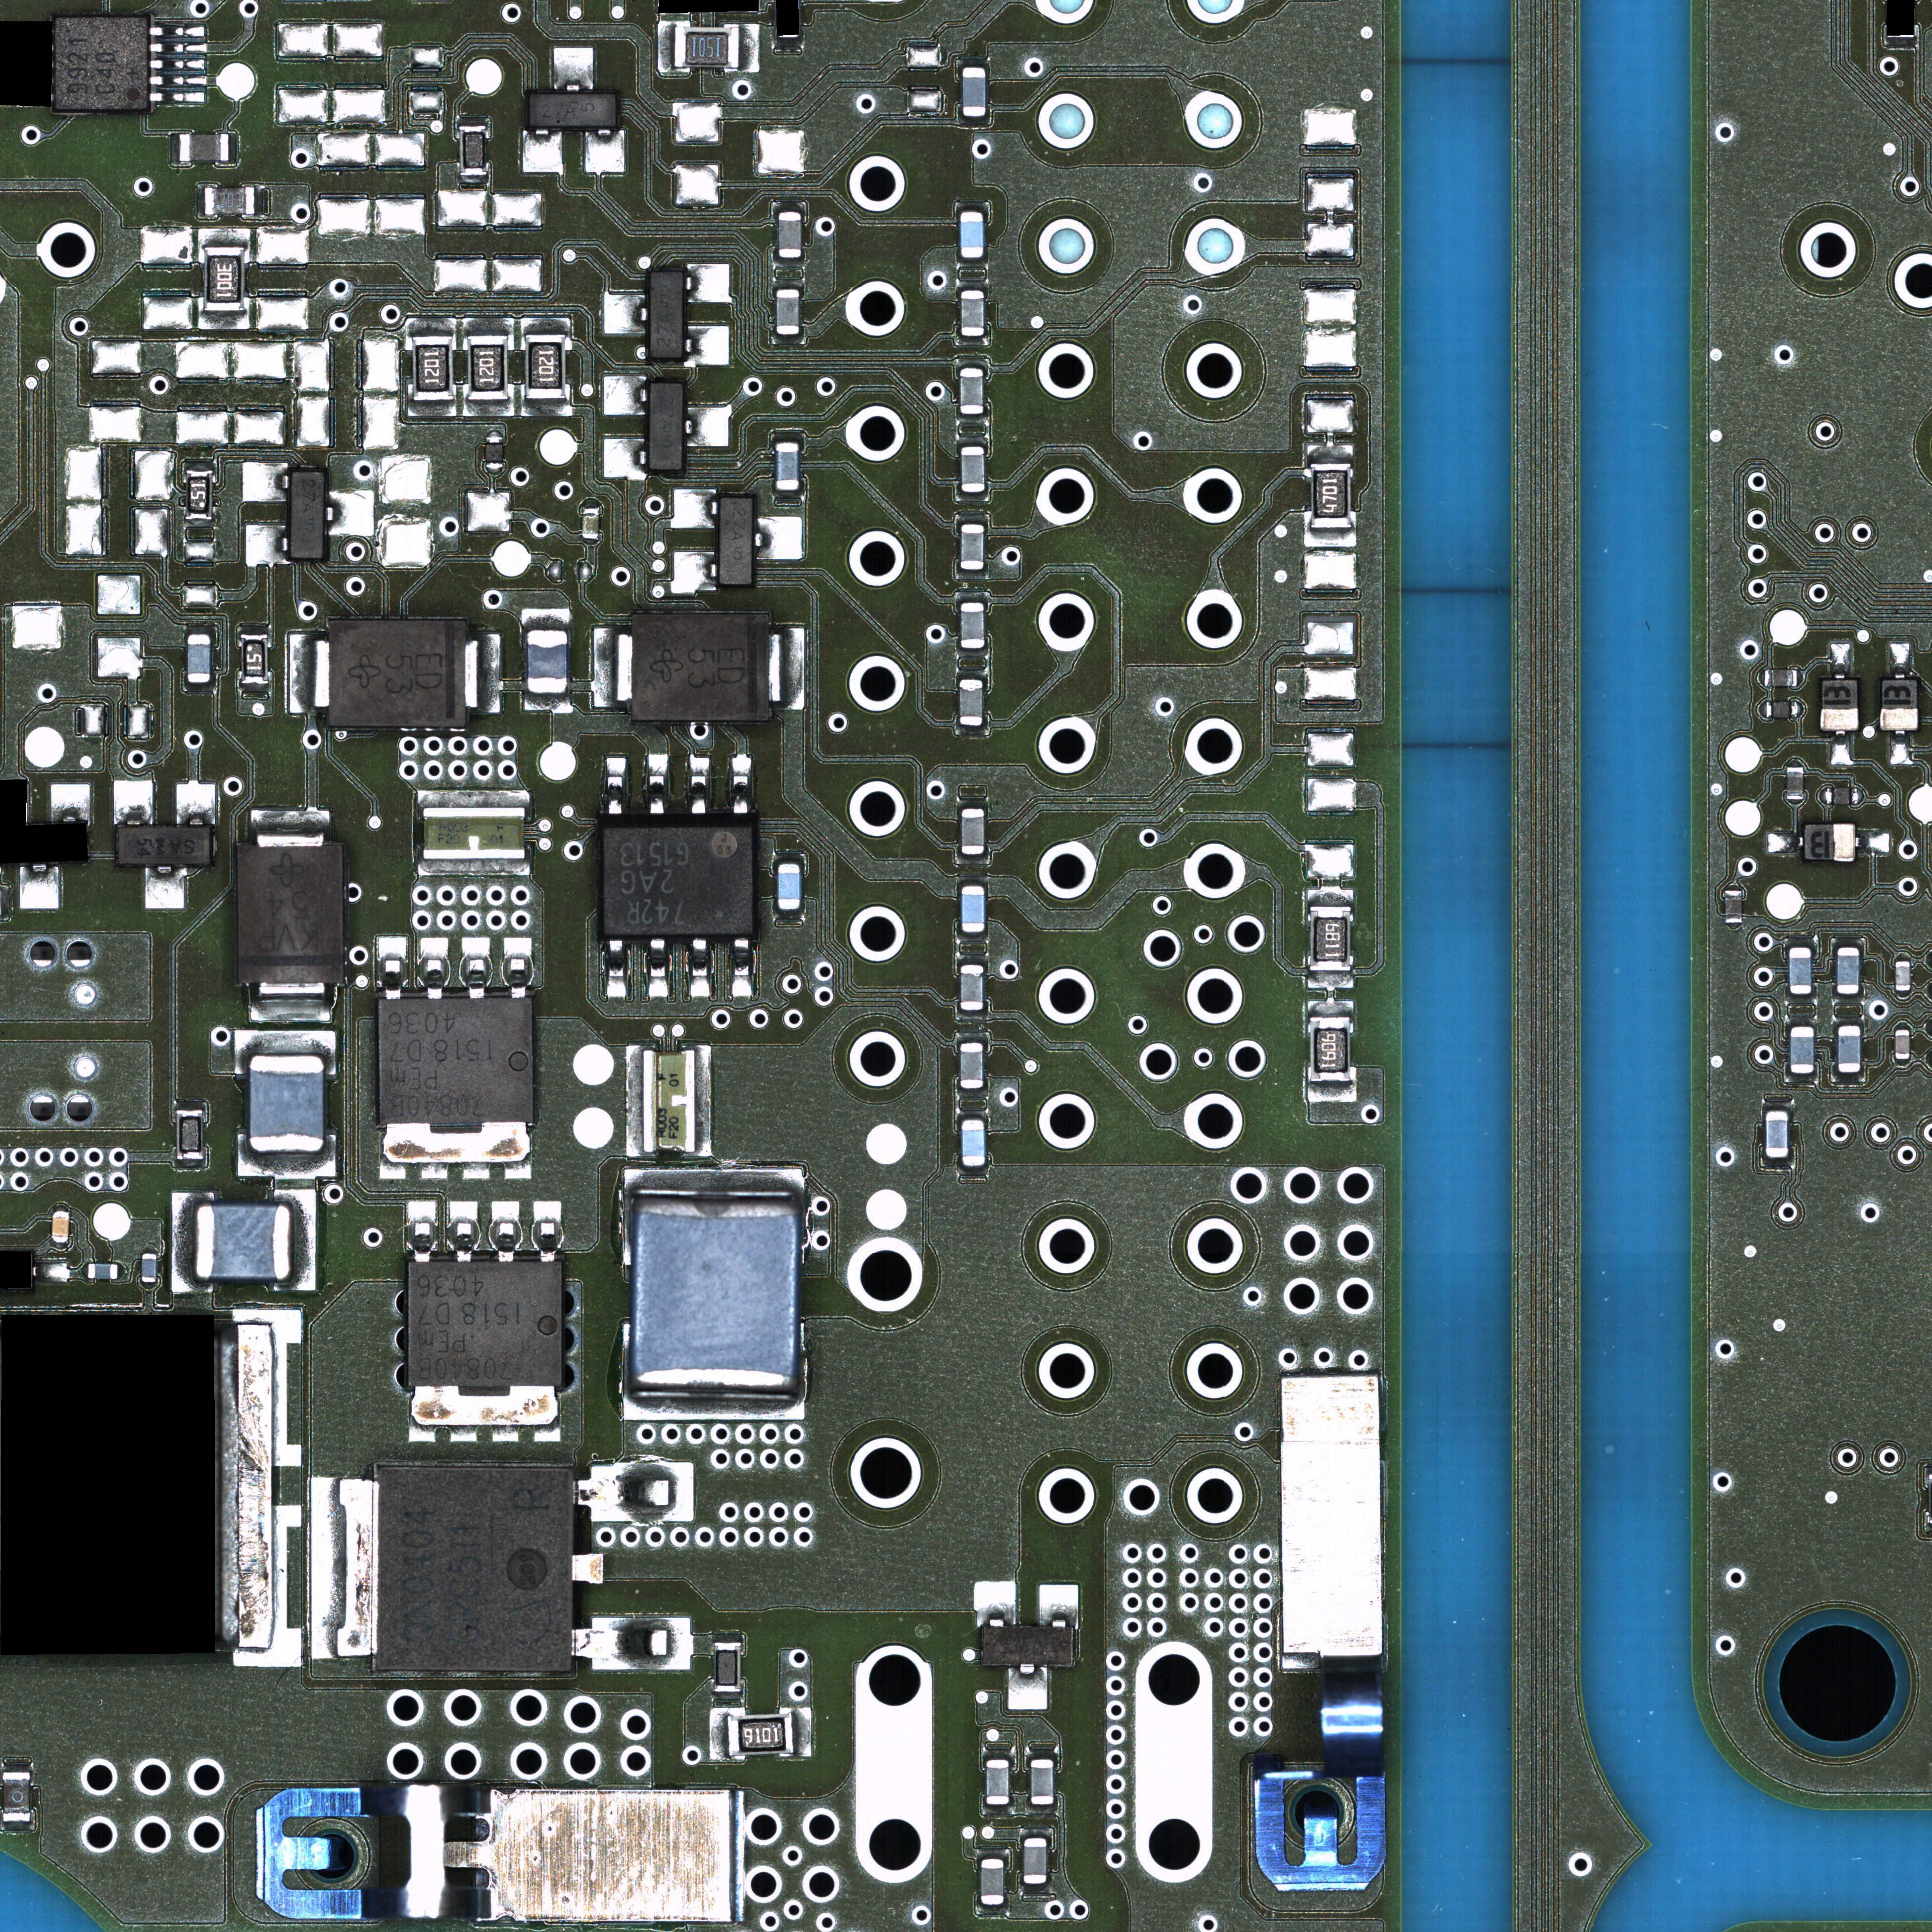Package: (379, 1467, 571, 1670), (633, 1198, 798, 1392), (377, 1000, 533, 1122), (409, 1263, 563, 1385), (603, 828, 754, 936), (329, 621, 465, 727), (237, 847, 343, 984), (633, 616, 768, 720), (55, 18, 149, 110), (193, 1201, 292, 1283), (249, 1054, 326, 1154), (423, 807, 524, 858), (644, 1051, 694, 1152), (119, 826, 209, 865), (984, 1628, 1072, 1663), (718, 497, 752, 586), (727, 1713, 794, 1757), (649, 384, 683, 472), (651, 272, 685, 361), (529, 94, 616, 127), (1309, 464, 1353, 529), (412, 336, 456, 400), (465, 336, 510, 400), (292, 472, 324, 559), (203, 248, 246, 311), (1309, 1017, 1350, 1083), (674, 27, 740, 67), (1311, 908, 1352, 971), (525, 334, 566, 398), (527, 630, 568, 694), (1805, 823, 1856, 862), (1821, 679, 1858, 731), (1881, 681, 1918, 731), (175, 1109, 205, 1161), (241, 633, 269, 685), (713, 1642, 741, 1691), (460, 126, 488, 175), (179, 134, 228, 161), (205, 188, 255, 214), (186, 471, 212, 520), (775, 442, 800, 490), (961, 602, 985, 649), (777, 863, 801, 911), (980, 1858, 1005, 1905), (961, 446, 985, 492), (962, 67, 985, 117), (961, 886, 985, 932), (1023, 1838, 1047, 1884), (778, 211, 801, 258), (777, 288, 800, 336), (1789, 947, 1812, 994), (1790, 1026, 1813, 1074), (1838, 1024, 1861, 1072), (188, 635, 211, 683), (985, 1760, 1010, 1805), (1030, 1760, 1054, 1805), (961, 524, 984, 570), (962, 290, 985, 336), (961, 212, 984, 258), (961, 368, 984, 414), (961, 964, 984, 1010), (961, 1042, 984, 1088), (962, 1120, 985, 1166), (1766, 1111, 1789, 1157), (962, 809, 984, 856), (961, 679, 982, 725), (1838, 948, 1859, 994), (1764, 669, 1798, 686), (1725, 890, 1743, 924), (1766, 701, 1798, 718), (582, 508, 600, 540), (51, 1210, 69, 1242), (1787, 768, 1803, 800), (485, 439, 502, 467), (1828, 789, 1858, 805), (1895, 961, 1911, 991), (1895, 1030, 1911, 1060), (88, 1263, 119, 1279), (142, 1253, 156, 1283)
Solder: (239, 1313, 304, 1667), (573, 1454, 695, 1527), (310, 1477, 347, 1660), (571, 1617, 694, 1670), (623, 1168, 805, 1192), (625, 1398, 805, 1419), (288, 632, 329, 713), (249, 807, 331, 847), (591, 628, 632, 708), (249, 984, 333, 1023), (465, 635, 504, 713), (770, 628, 805, 709), (237, 1154, 336, 1180), (235, 1030, 336, 1054), (326, 490, 375, 536), (418, 789, 531, 809), (418, 856, 531, 876), (294, 1189, 315, 1292), (172, 1192, 193, 1293), (458, 938, 494, 998), (446, 1201, 481, 1261), (488, 1201, 524, 1261), (418, 938, 451, 1000), (531, 1201, 564, 1263), (685, 403, 732, 446), (501, 938, 534, 998), (626, 1046, 644, 1157), (377, 936, 409, 998), (671, 552, 717, 594), (755, 517, 801, 559), (522, 129, 564, 175), (242, 462, 290, 502), (175, 778, 216, 826), (407, 1201, 439, 1261), (973, 1582, 1016, 1626), (603, 292, 648, 334), (246, 524, 288, 568), (19, 865, 62, 909), (686, 264, 732, 304), (113, 780, 154, 826), (671, 488, 718, 527), (603, 439, 646, 481), (686, 326, 729, 368), (586, 129, 625, 175), (695, 1046, 711, 1157), (1008, 1665, 1047, 1709), (554, 48, 593, 92), (1039, 1585, 1077, 1628), (145, 867, 184, 909), (603, 377, 648, 414), (50, 784, 90, 821), (504, 1129, 533, 1180), (648, 754, 669, 816), (690, 938, 711, 1000), (648, 938, 669, 1000), (731, 754, 752, 814), (731, 938, 752, 998), (380, 1132, 407, 1178), (690, 754, 709, 816), (607, 939, 626, 1001), (605, 757, 626, 814), (522, 609, 570, 630), (571, 1553, 603, 1585), (709, 1707, 727, 1762), (524, 694, 573, 713), (1304, 529, 1357, 547), (403, 318, 456, 336), (198, 228, 251, 246), (740, 25, 759, 73), (1307, 1083, 1355, 1102), (464, 400, 515, 418), (464, 317, 515, 334), (520, 317, 571, 334), (198, 311, 249, 329), (658, 21, 674, 78), (794, 1707, 812, 1757), (522, 400, 571, 418), (1306, 971, 1353, 989), (409, 400, 456, 418), (1307, 446, 1353, 464), (1307, 888, 1353, 906), (1890, 731, 1913, 764), (1831, 731, 1854, 764), (1890, 644, 1911, 679), (35, 1261, 71, 1283), (1307, 1001, 1353, 1017), (149, 74, 207, 87), (1831, 642, 1851, 679), (1767, 833, 1805, 853), (0, 58, 57, 71), (150, 58, 205, 71), (0, 92, 55, 104), (0, 27, 55, 39), (1856, 833, 1890, 853), (150, 42, 207, 53), (149, 92, 205, 103), (150, 27, 205, 37), (0, 76, 55, 87), (0, 44, 55, 55), (462, 1161, 490, 1180), (421, 1161, 448, 1180), (492, 1424, 518, 1442), (451, 1424, 478, 1442), (1024, 1746, 1060, 1759), (534, 1426, 561, 1442), (409, 1426, 435, 1442), (954, 591, 993, 602), (770, 853, 809, 863), (954, 202, 991, 212), (954, 357, 991, 368), (954, 513, 991, 524), (1017, 1828, 1054, 1838), (975, 1847, 1012, 1858), (1783, 1074, 1821, 1085), (1759, 1157, 1796, 1168), (771, 200, 809, 211), (770, 432, 807, 442), (172, 1161, 209, 1171), (1882, 37, 1920, 48), (955, 336, 991, 347), (955, 414, 991, 425), (954, 725, 989, 736), (955, 855, 991, 865), (955, 1010, 991, 1021), (955, 1088, 991, 1099), (980, 1748, 1016, 1759), (1024, 1805, 1060, 1815), (1783, 936, 1819, 947), (1783, 1016, 1819, 1026), (1831, 1072, 1867, 1083), (255, 184, 265, 219), (184, 625, 219, 635), (771, 909, 805, 920), (711, 1631, 745, 1642), (235, 625, 274, 633), (170, 1100, 209, 1109), (957, 798, 989, 809), (955, 954, 987, 964), (1762, 1100, 1794, 1111), (954, 494, 991, 502), (954, 571, 991, 580), (1017, 1884, 1054, 1893), (975, 1905, 1012, 1914), (770, 336, 807, 345), (182, 685, 219, 694), (237, 685, 274, 694), (180, 460, 218, 469), (773, 37, 803, 48), (955, 437, 991, 446), (955, 649, 991, 658), (957, 1168, 993, 1177), (980, 1806, 1016, 1815), (228, 131, 237, 166), (170, 131, 179, 166), (456, 117, 490, 126), (957, 58, 991, 67), (955, 281, 989, 290), (955, 671, 989, 679), (955, 932, 989, 941), (1831, 938, 1865, 947), (771, 490, 805, 499), (711, 1691, 745, 1700), (182, 520, 216, 529), (458, 175, 490, 184), (955, 258, 987, 267), (957, 876, 989, 885), (955, 1033, 987, 1042), (957, 1109, 989, 1118), (1785, 994, 1817, 1003), (773, 258, 805, 267), (196, 182, 203, 219), (957, 119, 991, 126), (1833, 1017, 1867, 1024), (1833, 996, 1865, 1003), (773, 281, 805, 288), (487, 428, 502, 437), (1798, 701, 1805, 720), (485, 469, 504, 476), (119, 1261, 126, 1281), (1858, 787, 1865, 805), (1821, 787, 1828, 805), (1798, 669, 1805, 686), (1759, 701, 1766, 718), (81, 1261, 88, 1279), (140, 1283, 157, 1290), (1787, 761, 1803, 768), (1895, 954, 1911, 961), (1895, 991, 1911, 998), (1895, 1023, 1911, 1030), (1895, 1060, 1911, 1067), (582, 501, 598, 508), (584, 540, 600, 547), (142, 1246, 157, 1253), (1787, 800, 1805, 805), (1759, 669, 1764, 686), (1725, 924, 1743, 929), (1725, 885, 1743, 890), (51, 1244, 69, 1249), (51, 1205, 69, 1210)
